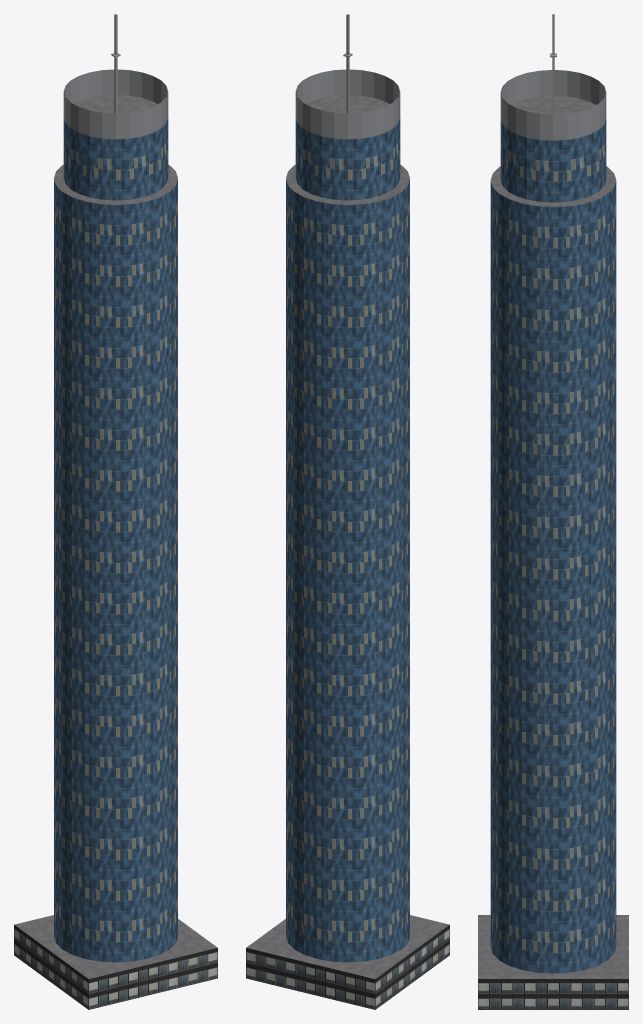
The model's file is 049_supertall_round.glb.
3 views of the same model, side by side, from view 1: azimuth 30°, elevation 25°; view 2: azimuth 150°, elevation 25°; view 3: azimuth 270°, elevation 25° (orthographic).
Parts seen in each view (by area): view 1: 049_supertall_round; view 2: 049_supertall_round; view 3: 049_supertall_round.
Part boxes in pixels (left/top/right/bottom): 049_supertall_round: left=14, top=14, right=217, bottom=1009; 049_supertall_round: left=246, top=14, right=449, bottom=1009; 049_supertall_round: left=478, top=14, right=628, bottom=1009.
Size of the model in its own units: 52.8 by 372 by 52.8.
4 materials, 3 textured.
